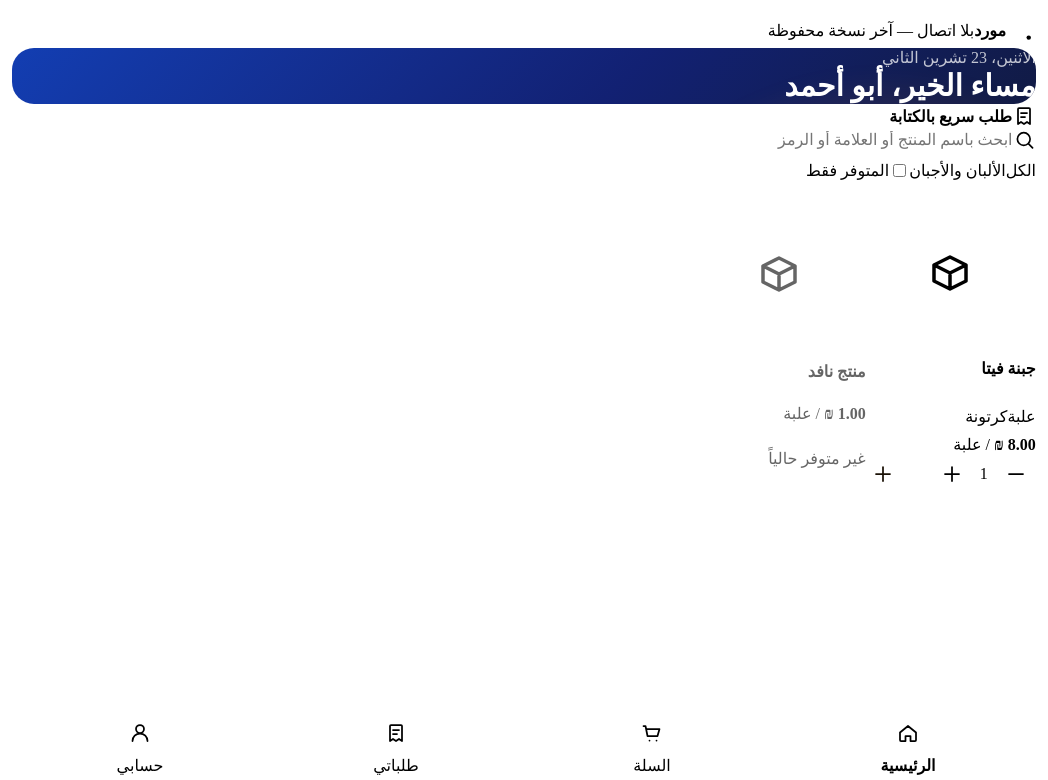
Test: الواجهة › البحث والتصفية في الكتالوج، والعمل بلا نت من النسخة المحفوظة
The image size is (1048, 780).
Check: the text "بلا اتصال — آخر نسخة محفوظة" is shown, box 768,22 -> 974,38
Type "جبنه" into the search field labelled "بحث" at (512, 140), box 12,131 -> 1012,149
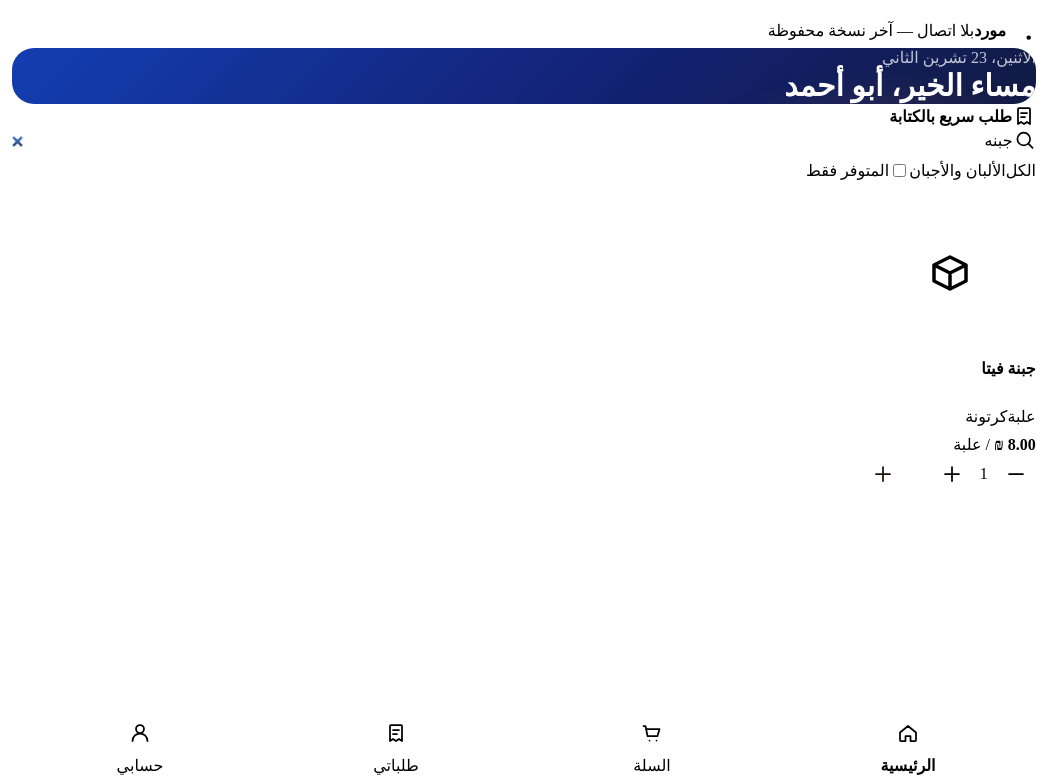
Check: the button "جبنة فيتا" is shown, box 865,359 -> 1036,379
Check: the button "منتج نافد" is gone
Clear the search field named "بحث" at (512, 140), box 12,131 -> 1012,149
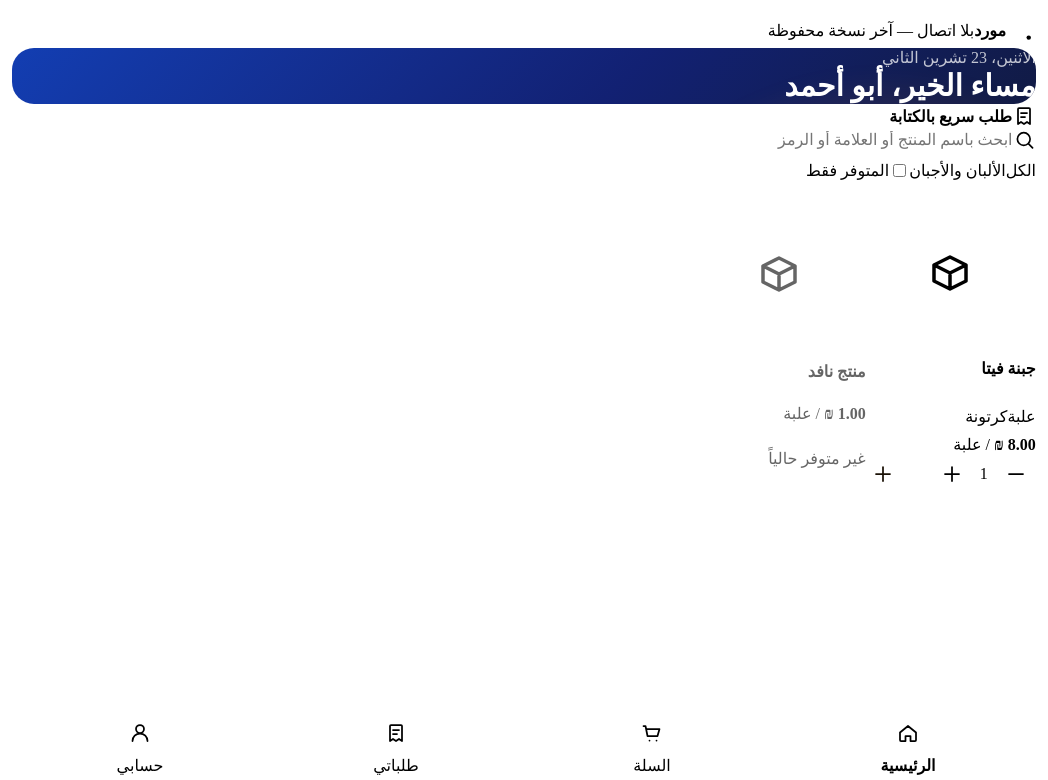
Click the checkbox at (900, 170), box 893,164 -> 906,177
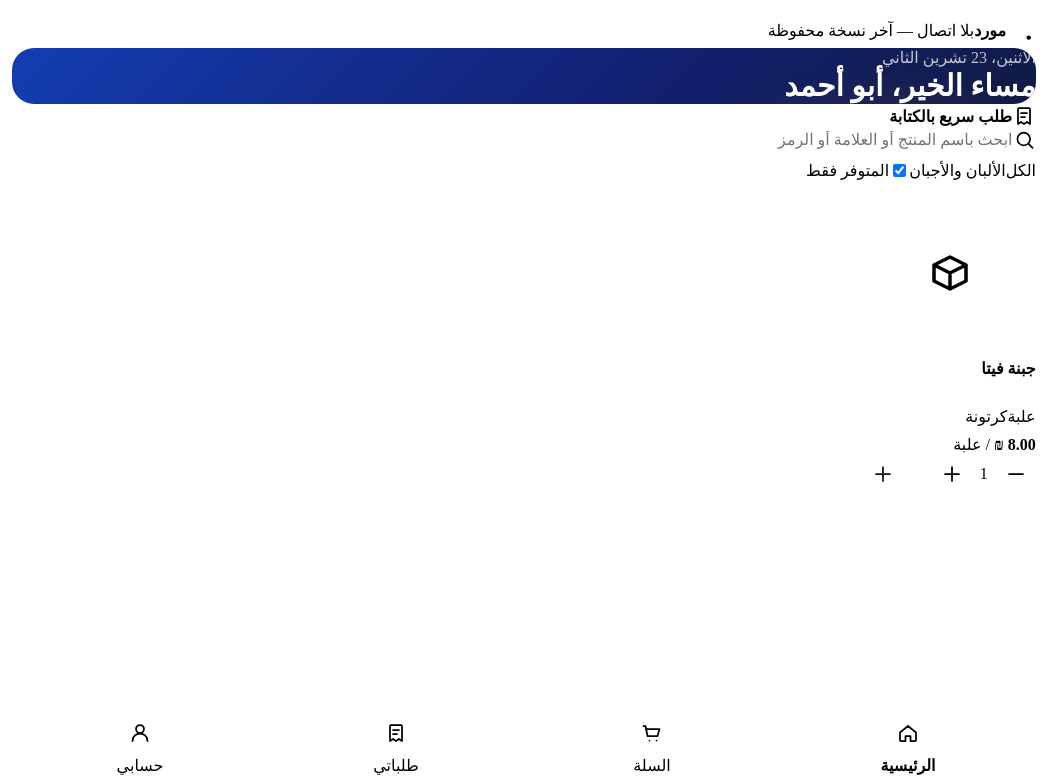
Check: the button "منتج نافد" is gone
Type "غير موجود" into the search field labelled "بحث" at (512, 140), box 12,131 -> 1012,149
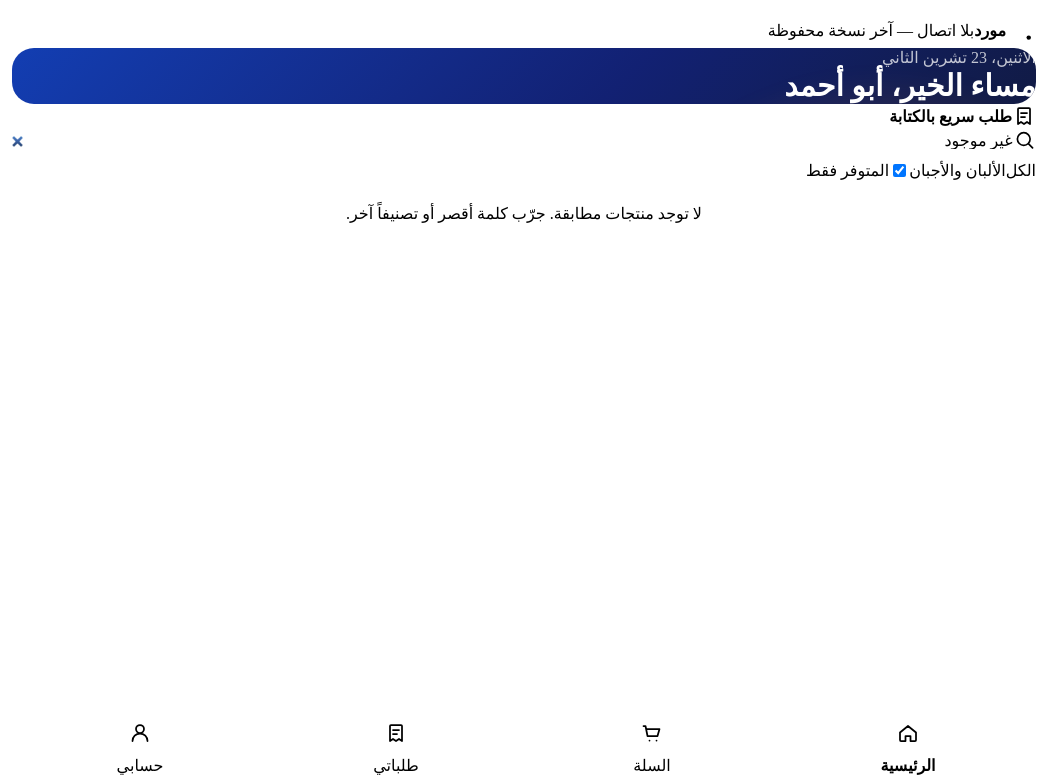
Check: the text "لا توجد منتجات مطابقة. جرّب كلمة أقصر أو تصنيفاً آخر." is shown, box 346,205 -> 702,222
